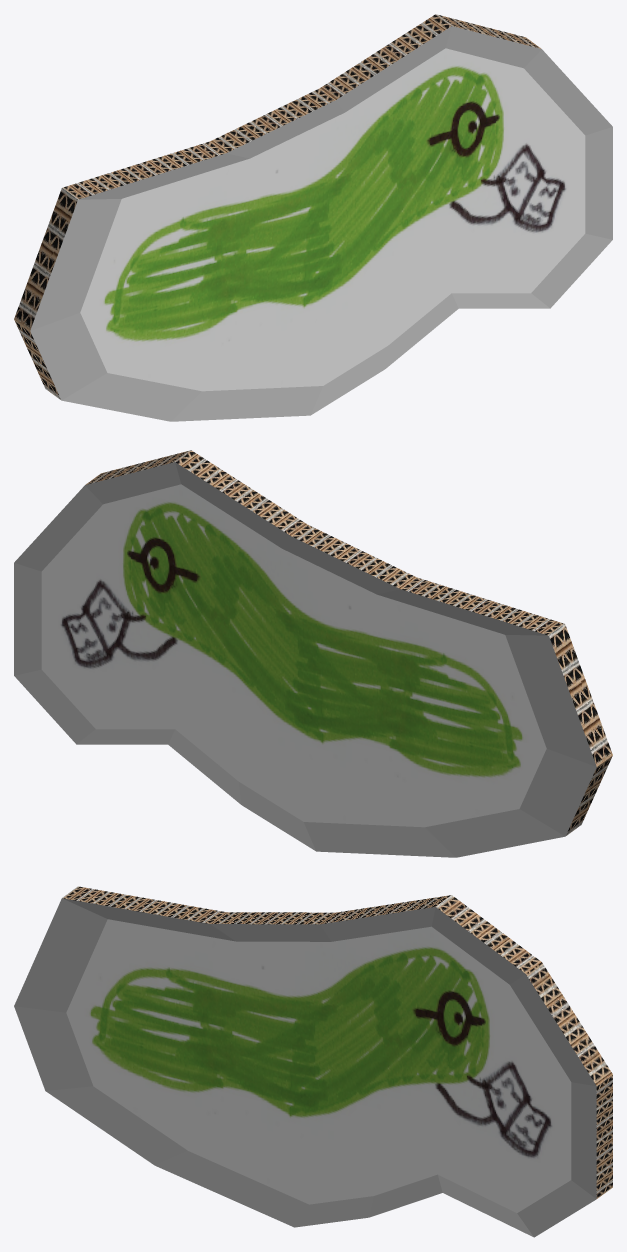
The model's file is LukuToukka.fbx.
3 views of the same model, one above another, from view 1: azimuth 30°, elevation 25°; view 2: azimuth 150°, elevation 25°; view 3: azimuth 330°, elevation 25° (orthographic).
Parts seen in each view (by area): view 1: LukuToukka; view 2: LukuToukka; view 3: LukuToukka.
Boxes of the visible parts, x1,y1,x2,y2 form: LukuToukka: (14,14,612,421); LukuToukka: (14,450,612,857); LukuToukka: (14,886,612,1237).
Bounding box in the file's own units: 216 × 126 × 10.36.
